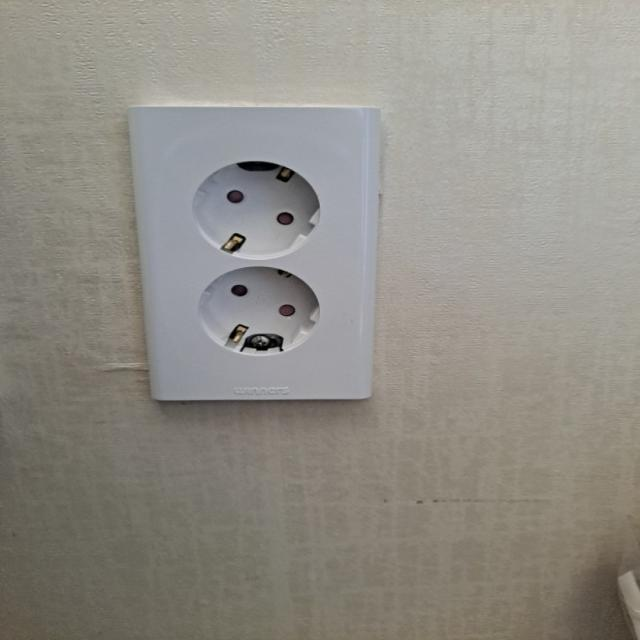typeb: (105, 94, 462, 462)
